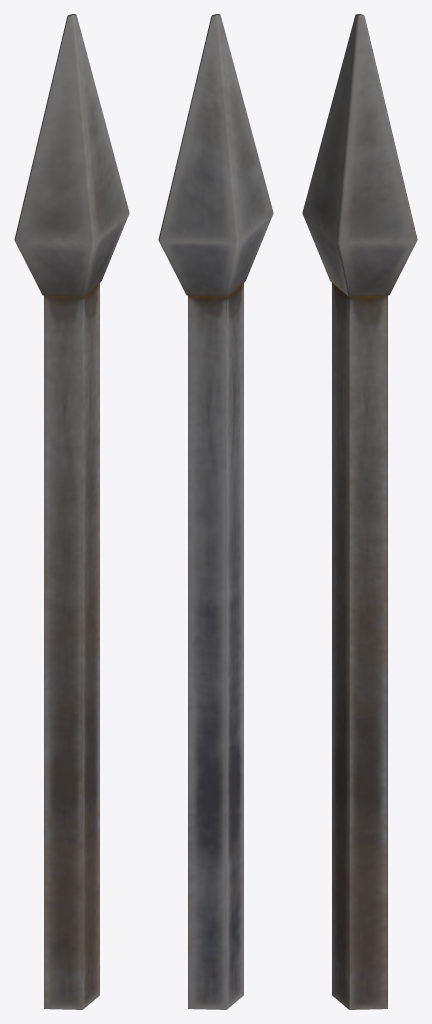
Rendered from metal spikes3.fbx.
3 views of the same model, side by side, from view 1: azimuth 30°, elevation 25°; view 2: azimuth 210°, elevation 25°; view 3: azimuth 330°, elevation 25° (orthographic).
Parts seen in each view (by area): view 1: metal spikes3; view 2: metal spikes3; view 3: metal spikes3.
Part boxes in pixels (x1=…): metal spikes3: x1=14, y1=14, x2=129, y2=1009; metal spikes3: x1=158, y1=14, x2=273, y2=1009; metal spikes3: x1=302, y1=14, x2=417, y2=1009.
Size of the model in its own units: 13.3 by 110 by 8.77.
